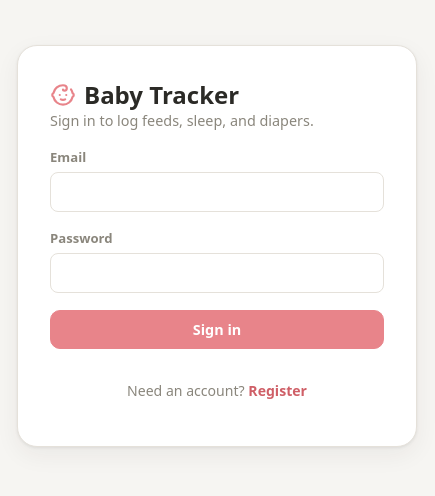
LoginPage › shows the API error message on failure
This screenshot has width=435, height=496.
Type "t@t.com" into the field labelled "Email".
click(217, 192); type("t@t.com")  # box [50,172,384,212]
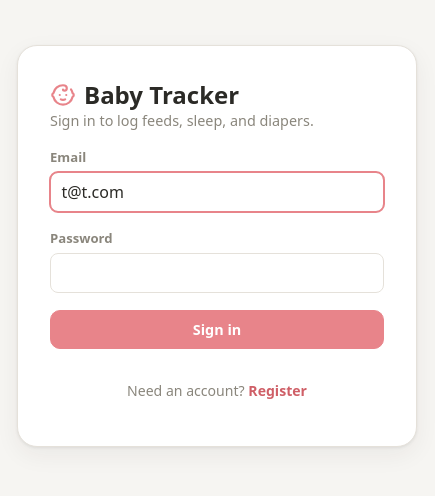
Type "wrong" into the password field labelled "Password".
click(217, 273); type("wrong")  # box [50,253,384,293]
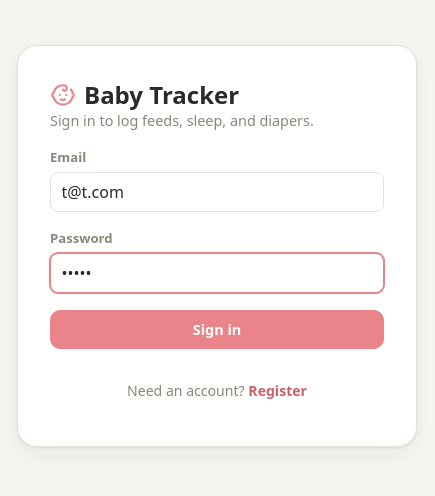
Click the button "Sign in".
click(217, 330)  # box [50,310,384,349]
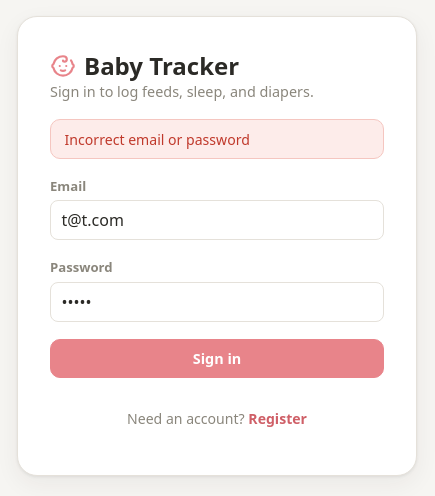
Now the text "Incorrect email or password" is shown, box [50,119,384,159]
